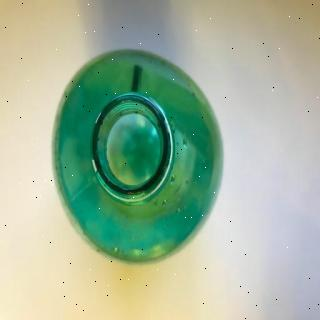Plastic-bottle: (49, 45, 227, 270)
